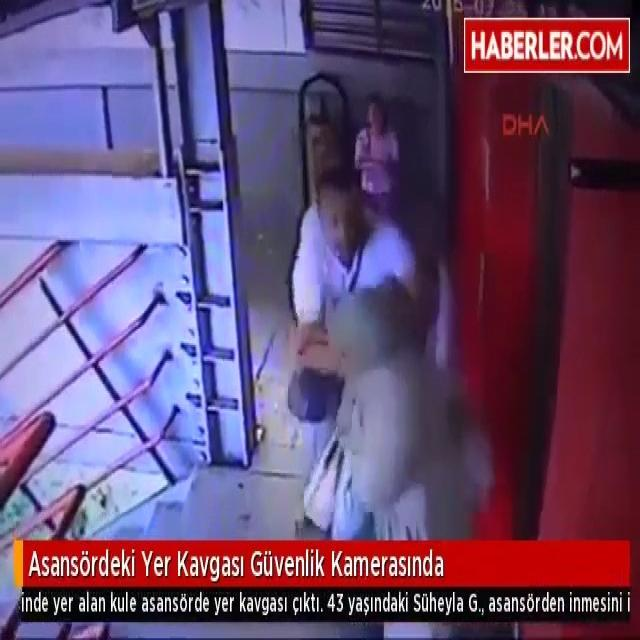fight: (291, 160, 472, 538)
